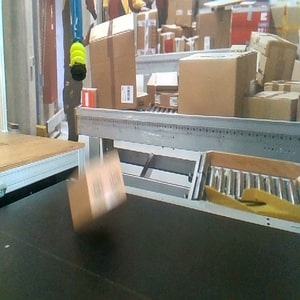box: (66, 149, 127, 233)
